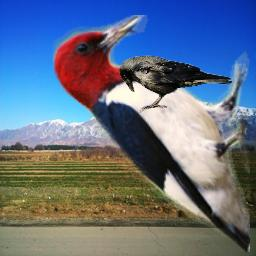Crow: (119, 55, 234, 113)
Woodpecker: (50, 15, 250, 252)
